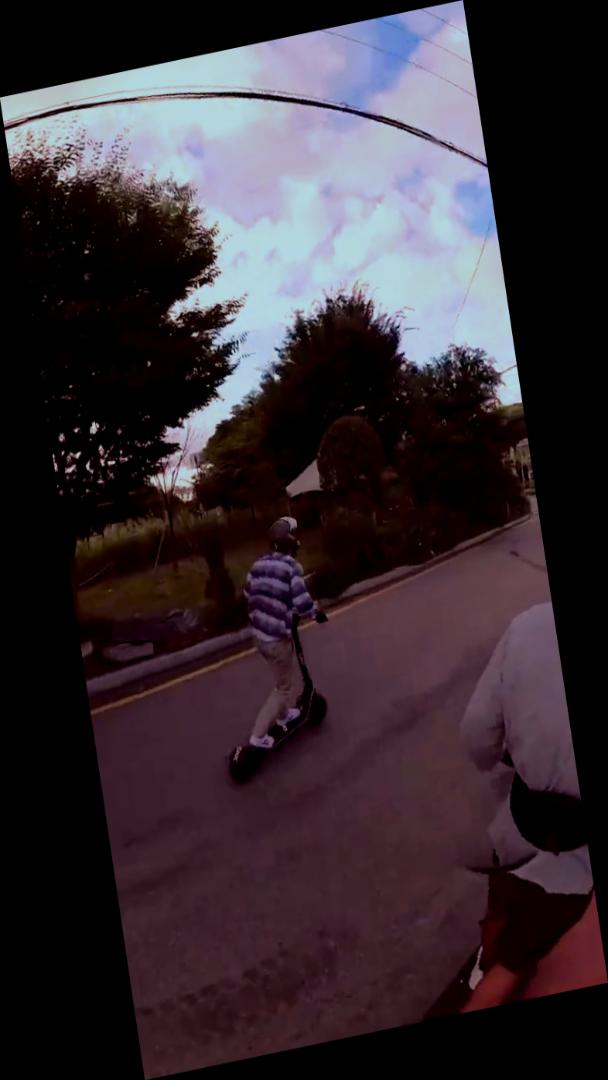helmet: (191, 505, 355, 792)
